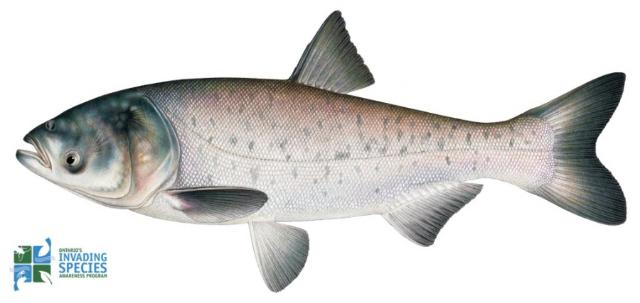Mulut: (6, 116, 54, 181)
Sirip Anal: (393, 178, 487, 254)
Sirip Dada: (162, 185, 270, 230)
Sirip Ekor: (538, 69, 632, 229)
Sirip Perut: (248, 216, 316, 296)
Sirip Punggung: (282, 4, 380, 104)
